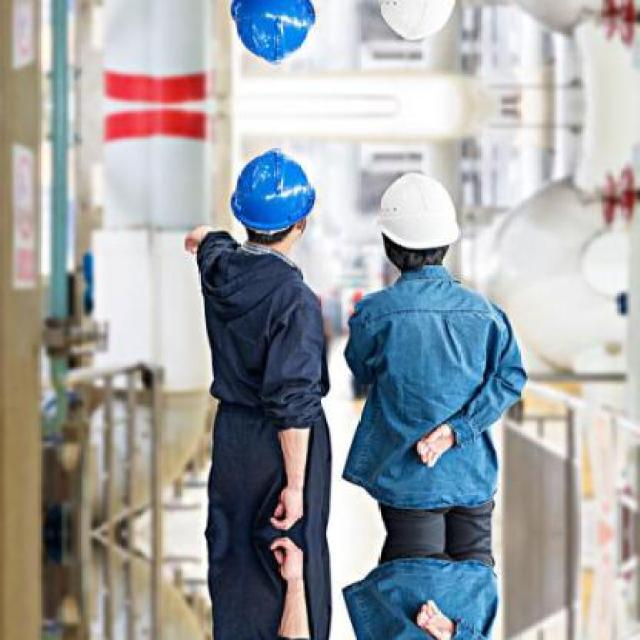helmet: (214, 140, 328, 269), (370, 163, 470, 277), (214, 0, 329, 74), (369, 0, 471, 51)
